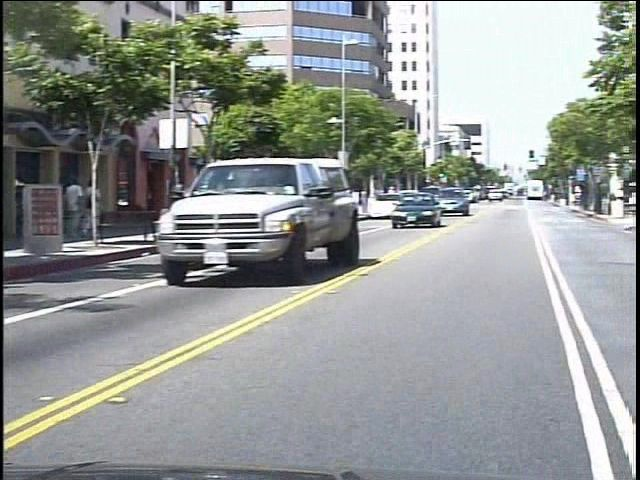person: (76, 174, 98, 237), (92, 177, 108, 241)
